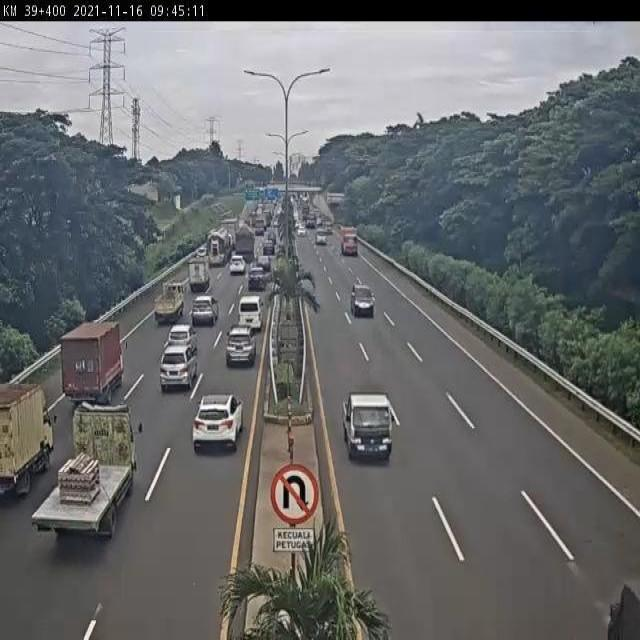Car: (342, 392, 394, 462), (192, 391, 244, 453), (159, 341, 198, 392), (225, 326, 258, 368), (166, 323, 198, 353), (191, 294, 218, 326), (351, 282, 375, 318), (247, 265, 267, 291), (229, 255, 246, 276), (257, 255, 272, 273), (263, 236, 275, 256), (315, 231, 328, 245), (196, 246, 207, 258), (297, 226, 306, 237), (316, 217, 323, 228)
Truck: (30, 402, 144, 542), (0, 383, 55, 495), (58, 321, 126, 403), (154, 282, 184, 323), (209, 230, 232, 264), (188, 258, 210, 290), (340, 227, 358, 256)
Van: (237, 295, 263, 332)
